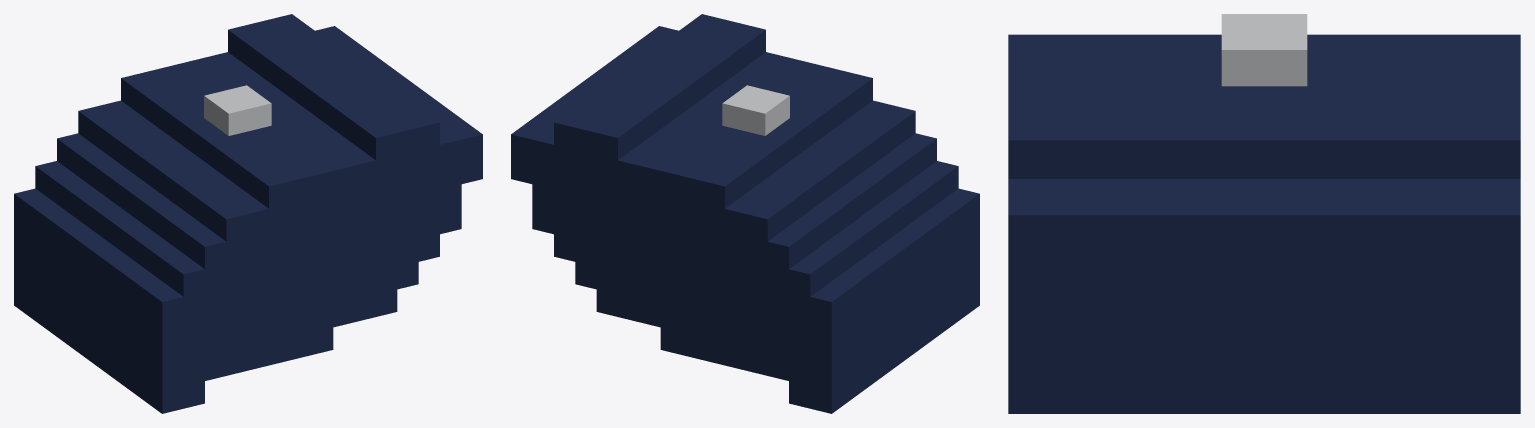
File: touring_bike_tank.glb
3 renders of one model, left to right at view 1: azimuth 30°, elevation 25°; view 2: azimuth 150°, elevation 25°; view 3: azimuth 270°, elevation 25°, orthographic. The views are drawn at different scales.
Visible parts, largest first — view 1: body:compound; view 2: body:compound; view 3: body:compound.
Part boxes in pixels (x1,y1,x2,y2): body:compound: (14,14,482,413); body:compound: (511,14,979,413); body:compound: (1008,14,1520,413).
Size of the model in its own units: 0.4688 by 0.3125 by 0.375.
